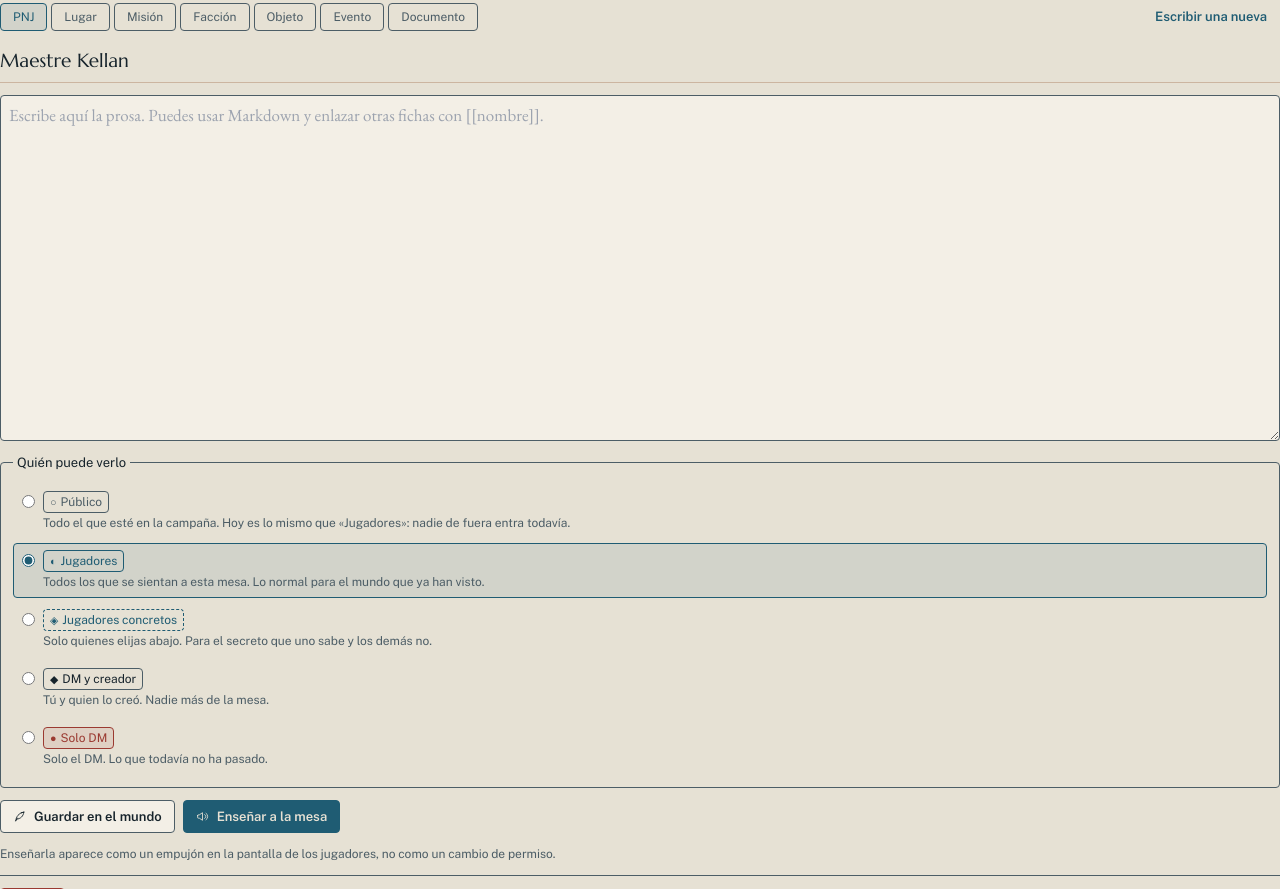
reclasificar una ficha (I16) › **nombra la consecuencia**: de dónde sale, dónde aparece, y qué NO se pierde
Click the button "Documento": (433, 17) [388, 3, 478, 31]
(page scrolled)
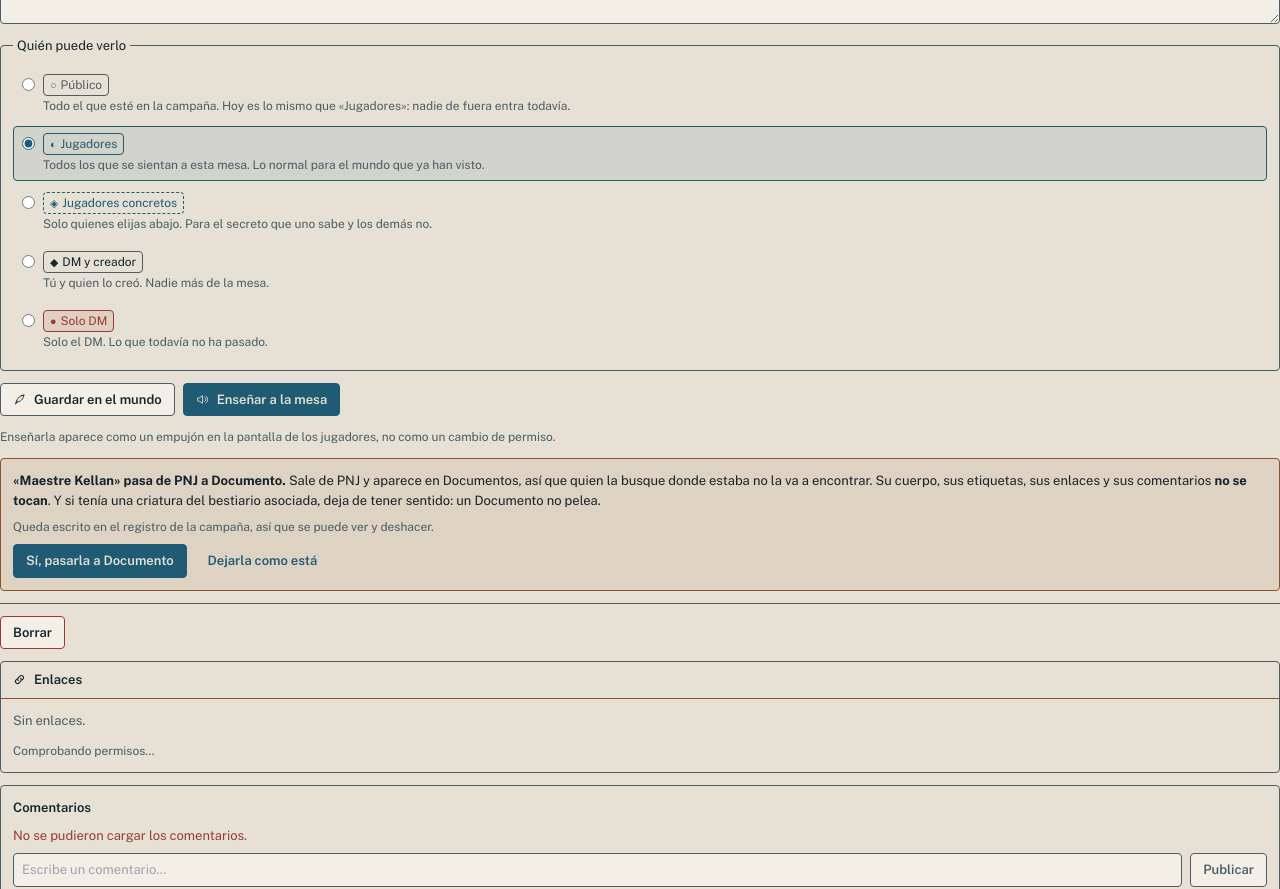
Now the dialog shows "pasa de PNJ a Documento", box [0, 458, 1279, 590]
Now the dialog shows "no la va a encontrar", box [518, 473, 1214, 488]
Now the dialog shows "no se tocan", box [13, 473, 1247, 508]
